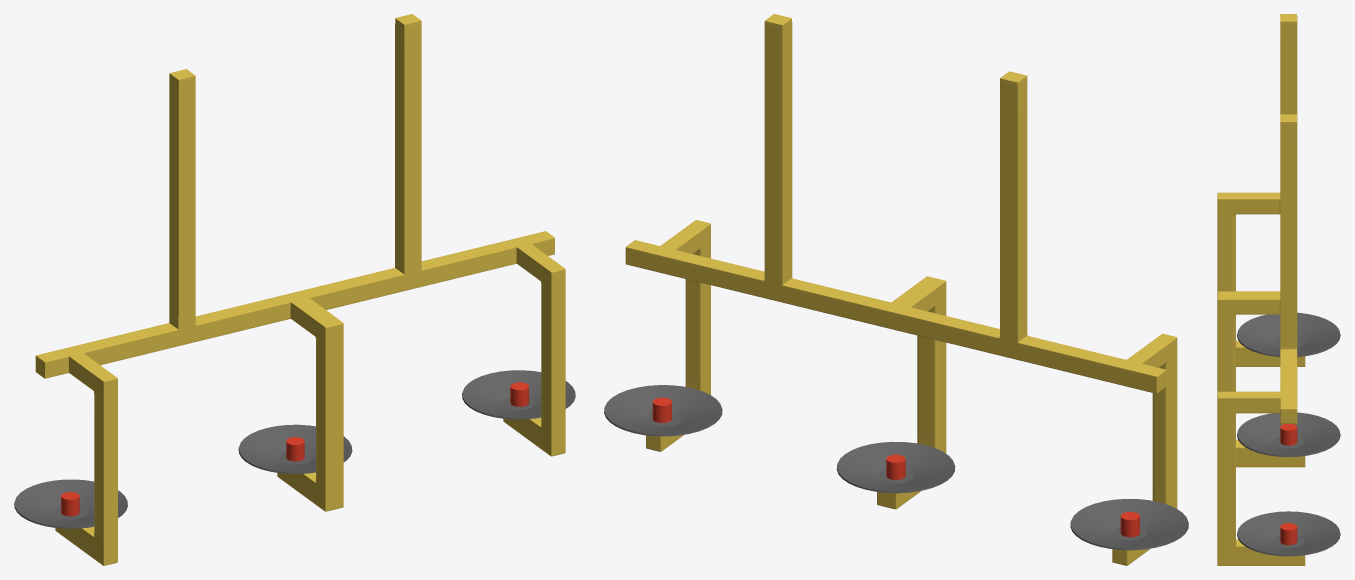
Rendered from chandelier.fbx.
3 views of the same model, side by side, from view 1: azimuth 30°, elevation 25°; view 2: azimuth 150°, elevation 25°; view 3: azimuth 270°, elevation 25° (orthographic). The views are drawn at different scales.
Parts seen in each view (by area): view 1: Cube, Circle.001, Circle.002, Circle; view 2: Cube, Circle, Circle.002, Circle.001; view 3: Cube, Circle.002, Circle, Circle.001, Cylinder.002, Cylinder.
Boxes of the visible parts, bbox=[...] form: Cube: bbox=[35, 14, 565, 565]; Circle.001: bbox=[14, 479, 127, 528]; Circle.002: bbox=[462, 370, 575, 419]; Circle: bbox=[238, 424, 352, 473]; Cube: bbox=[625, 14, 1177, 565]; Circle: bbox=[836, 441, 955, 493]; Circle.002: bbox=[604, 385, 722, 436]; Circle.001: bbox=[1070, 499, 1188, 550]; Cube: bbox=[1217, 14, 1305, 565]; Circle.002: bbox=[1237, 511, 1340, 556]; Circle: bbox=[1237, 412, 1340, 456]; Circle.001: bbox=[1237, 312, 1340, 356]; Cylinder.002: bbox=[1280, 523, 1297, 545]; Cylinder: bbox=[1280, 424, 1297, 445].
Bounding box in the file's own units: 6791 × 5158 × 1458.
